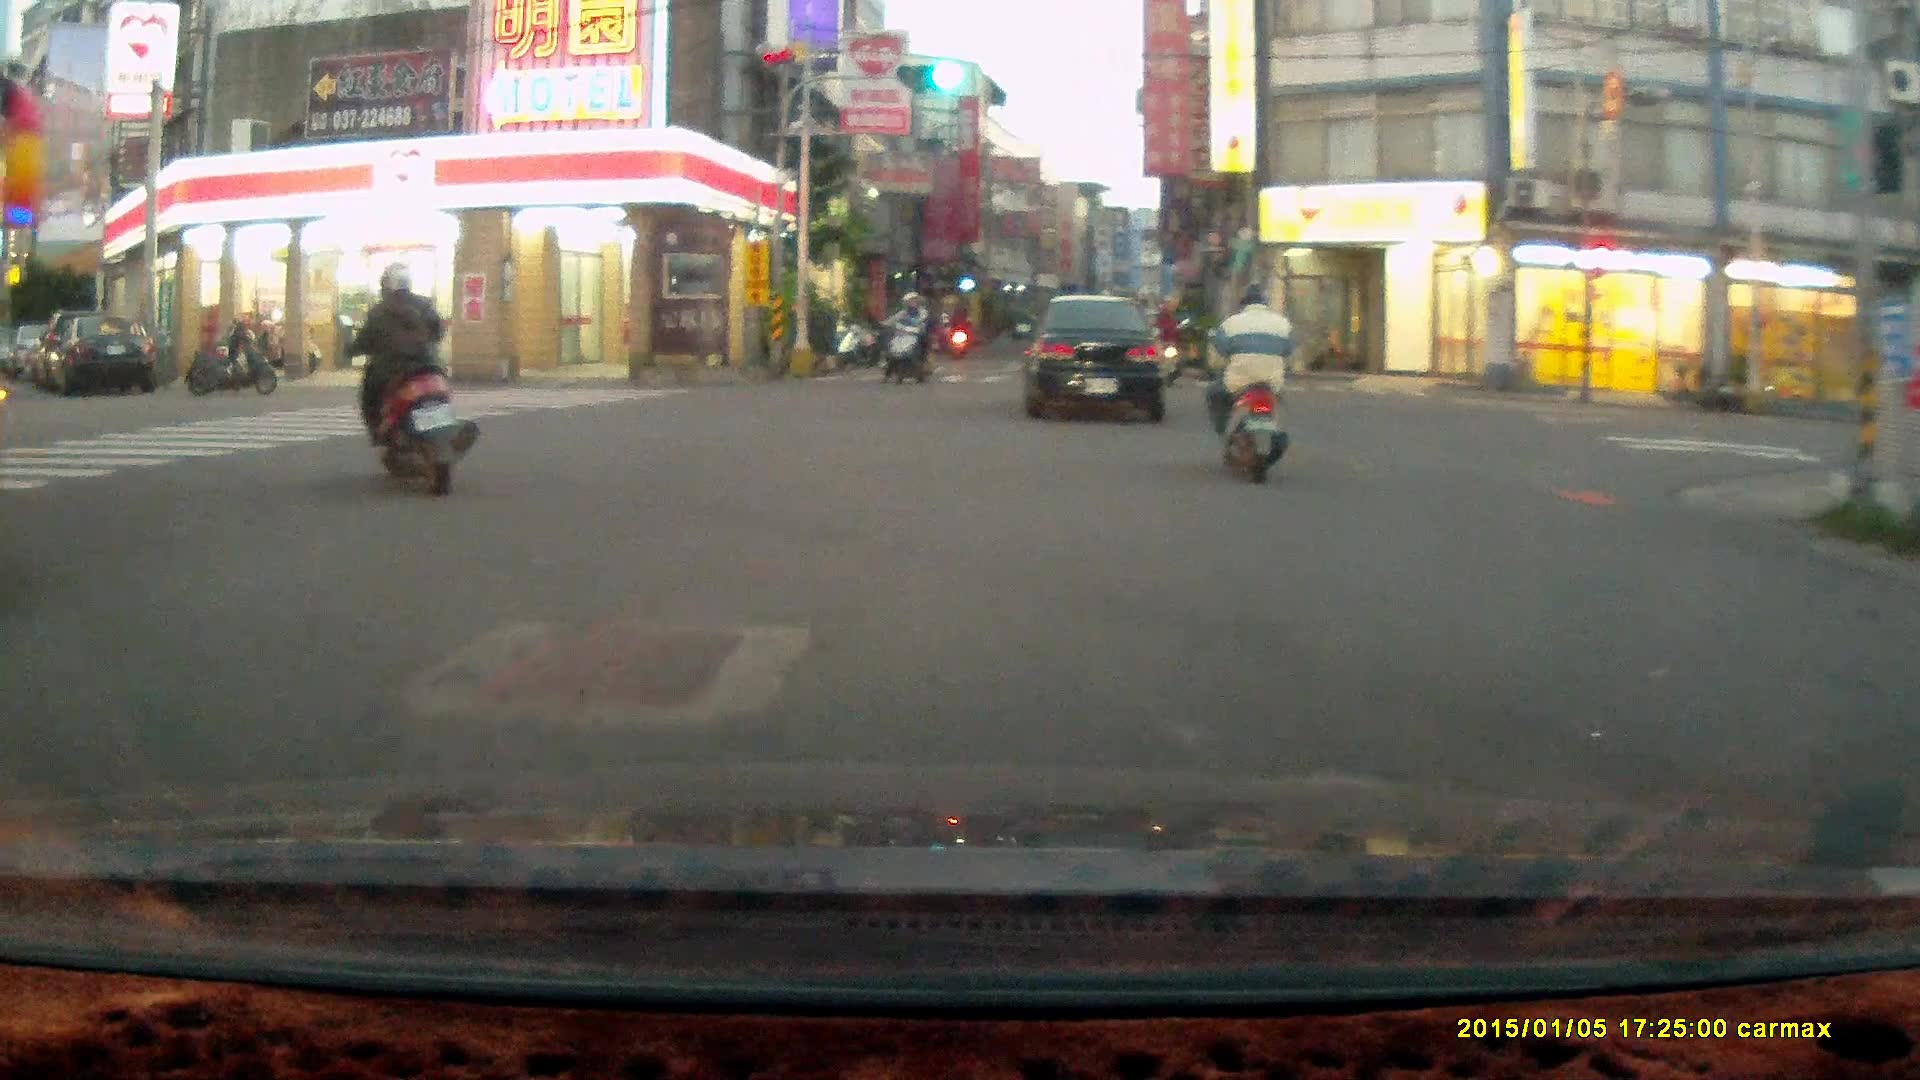rider: (334, 262, 479, 499), (1205, 281, 1295, 484), (876, 288, 934, 388), (1146, 295, 1183, 378)
vehicle: (1024, 294, 1170, 427), (64, 310, 159, 394)
